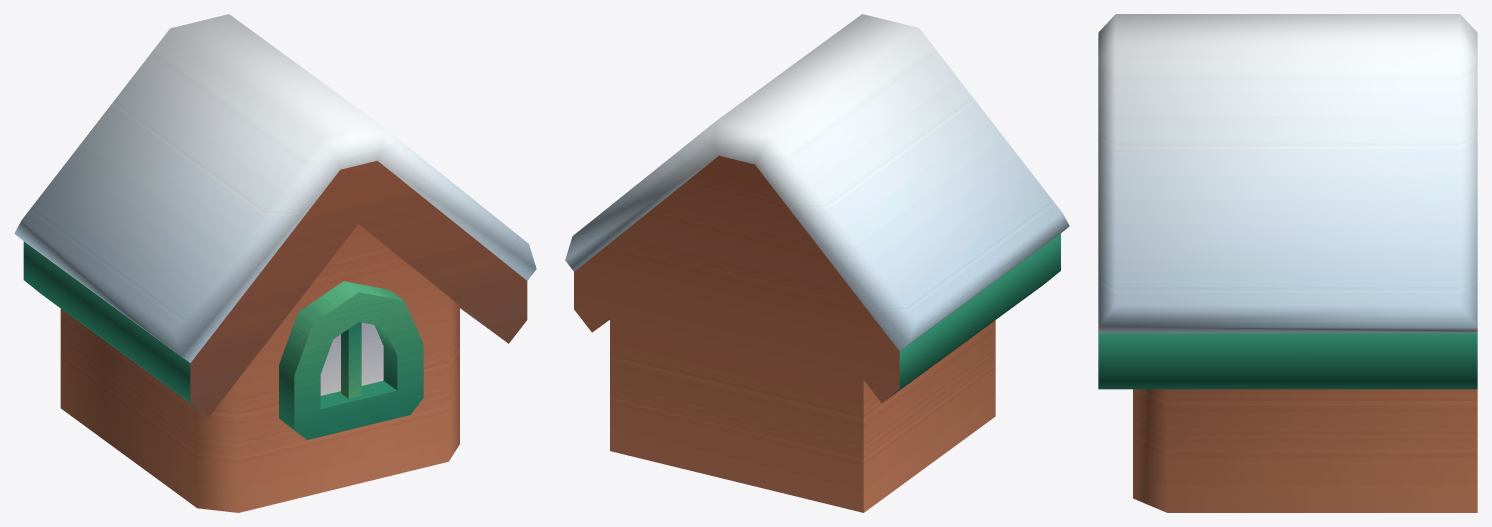
The model's file is cabin-roof-snow-dormer.glb.
3 views of the same model, side by side, from view 1: azimuth 30°, elevation 25°; view 2: azimuth 150°, elevation 25°; view 3: azimuth 270°, elevation 25° (orthographic). The views are drawn at different scales.
Visible parts, largest first — view 1: cabin-roof-snow-dormer; view 2: cabin-roof-snow-dormer; view 3: cabin-roof-snow-dormer.
Part boxes in pixels (box(x1,y1,x2,y2)): cabin-roof-snow-dormer: box(14, 14, 536, 512); cabin-roof-snow-dormer: box(565, 14, 1069, 512); cabin-roof-snow-dormer: box(1098, 14, 1477, 512).
Bounding box in the file's own units: 1.35 × 1.31 × 1.1.
Materials: 1 (1 with a texture image).
